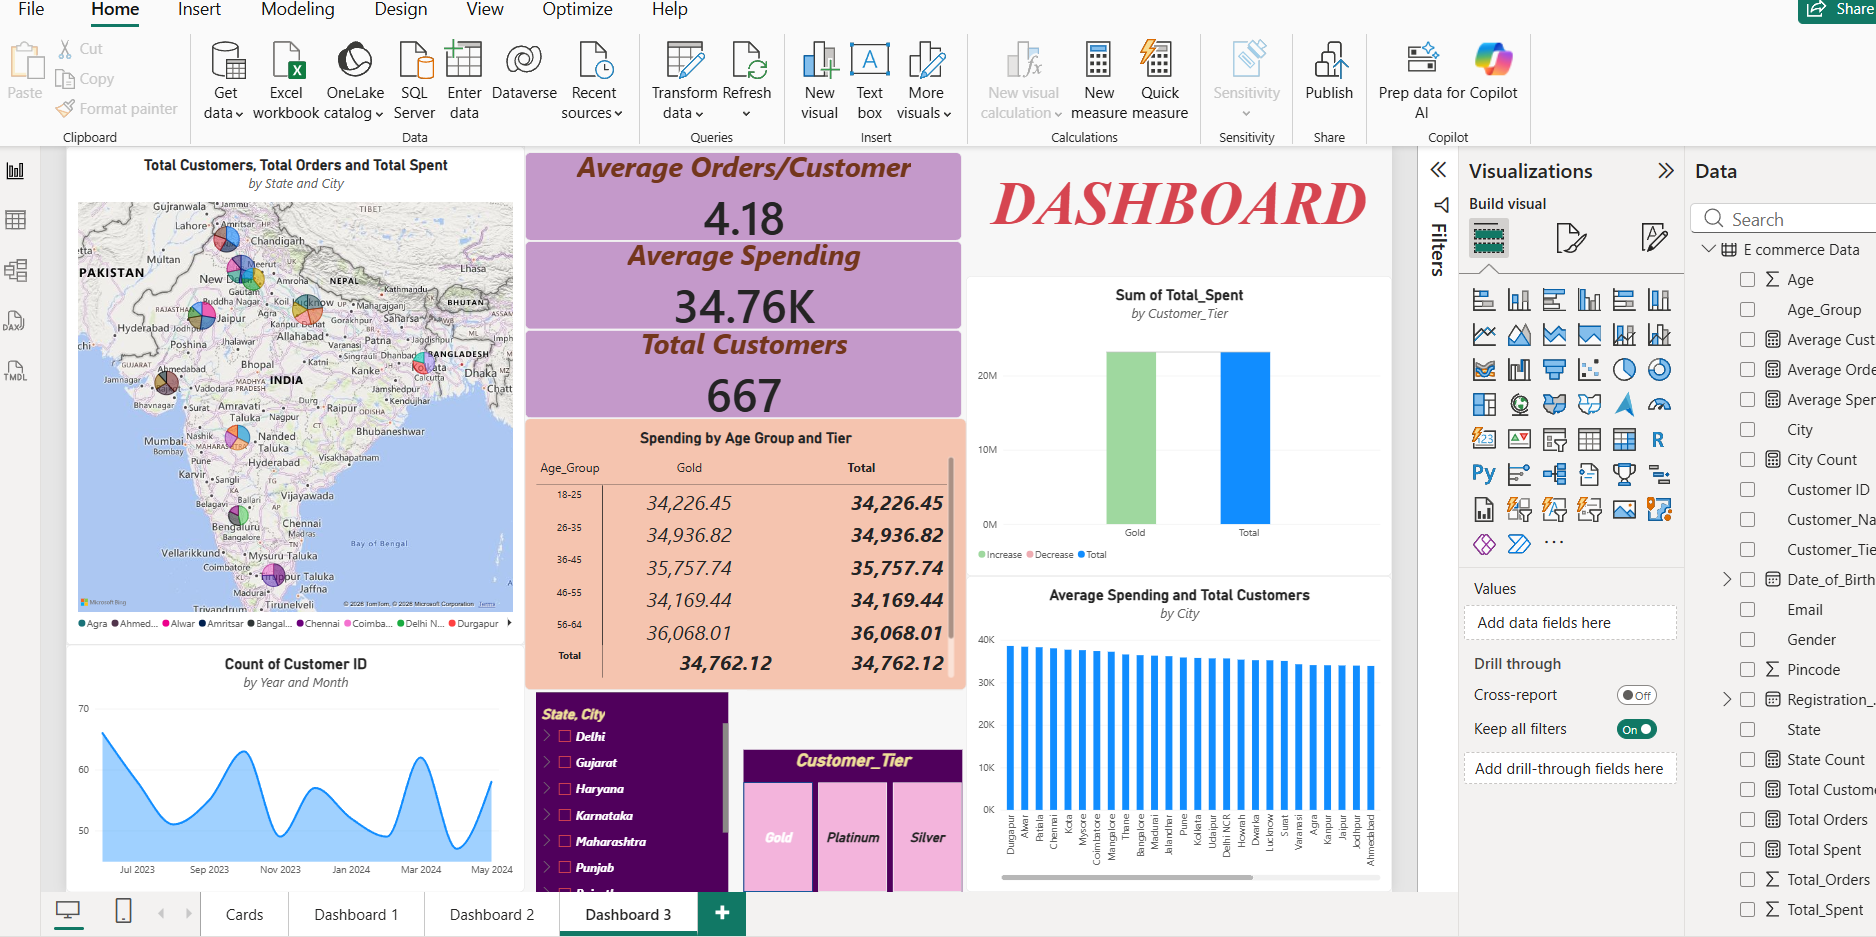

The dashboard page shown, as its layout file describes it:
{"tool":"powerbi","page":{"name":"Dashboard 3","canvas":[1920,1080],"ordinal":3},"visuals":[{"type":"map","fields":{"Category":["E commerce Data.State"],"Series":["E commerce Data.City"],"Size":["E commerce Data.Total Customers"]},"box":[0,0,664.1,722.1],"z":0},{"type":"areaChart","fields":{"Category":["E commerce Data.Registration_Date.Variation.Date Hierarchy.Year","E commerce Data.Registration_Date.Variation.Date Hierarchy.Month"],"Y":["CountNonNull(E commerce Data.Customer ID)"]},"box":[0,722.1,664.1,358.3],"z":1000},{"type":"waterfallChart","fields":{"Category":["E commerce Data.Customer_Tier"],"Y":["Sum(E commerce Data.Total_Spent)"]},"box":[1303,188.2,617.1,434.3],"z":2000},{"type":"clusteredColumnChart","fields":{"Category":["E commerce Data.City"],"Y":["E commerce Data.Average Spending"]},"box":[1303,622.5,617.1,457.8],"z":3000},{"type":"pivotTable","title":"Spending by Age Group and Tier","fields":{"Columns":["E commerce Data.Customer_Tier"],"Rows":["E commerce Data.Age_Group"],"Values":["E commerce Data.Average Spending"]},"box":[664.1,394.5,638.8,392.7],"z":4000},{"type":"cardVisual","fields":{"Data":["E commerce Data.Total Customers"]},"box":[664.1,266,633.4,128.5],"z":5000},{"type":"cardVisual","fields":{"Data":["E commerce Data.Average Spending"]},"box":[664.1,137.5,633.4,128.5],"z":6000},{"type":"cardVisual","fields":{"Data":["E commerce Data.Average Orders per Customer"]},"box":[664.1,9,633.4,128.5],"z":7000},{"type":"slicer","fields":{"Values":["E commerce Data.State","E commerce Data.City"]},"box":[680.4,790.8,278.7,289.5],"z":8000},{"type":"advancedSlicerVisual","fields":{"Values":["E commerce Data.Customer_Tier"]},"box":[980.8,798.1,316.7,269.6],"z":9000},{"type":"textbox","box":[1303,32.6,617.1,117.6],"z":9001}]}

Visuals, with their boxes on the page's 1920x1080 design canvas (x1, y1, x2, y2). These are canvas units, not pixel positions in the 1876x937 screenshot, which may show the page scaled, cropped or inside an application window:
map - E commerce Data.State x E commerce Data.City: x1=0 y1=0 x2=664 y2=722
areaChart - E commerce Data.Registration_Date.Variation.Date Hierarchy.Year x E commerce Data.Registration_Date.Variation.Date Hierarchy.Month: x1=0 y1=722 x2=664 y2=1080
waterfallChart - E commerce Data.Customer_Tier x Sum(E commerce Data.Total_Spent): x1=1303 y1=188 x2=1920 y2=622
clusteredColumnChart - E commerce Data.City x E commerce Data.Average Spending: x1=1303 y1=622 x2=1920 y2=1080
"Spending by Age Group and Tier" pivotTable: x1=664 y1=394 x2=1303 y2=787
cardVisual - E commerce Data.Total Customers: x1=664 y1=266 x2=1298 y2=394
cardVisual - E commerce Data.Average Spending: x1=664 y1=138 x2=1298 y2=266
cardVisual - E commerce Data.Average Orders per Customer: x1=664 y1=9 x2=1298 y2=138
slicer - E commerce Data.State x E commerce Data.City: x1=680 y1=791 x2=959 y2=1080
advancedSlicerVisual - E commerce Data.Customer_Tier: x1=981 y1=798 x2=1298 y2=1068
textbox: x1=1303 y1=33 x2=1920 y2=150
